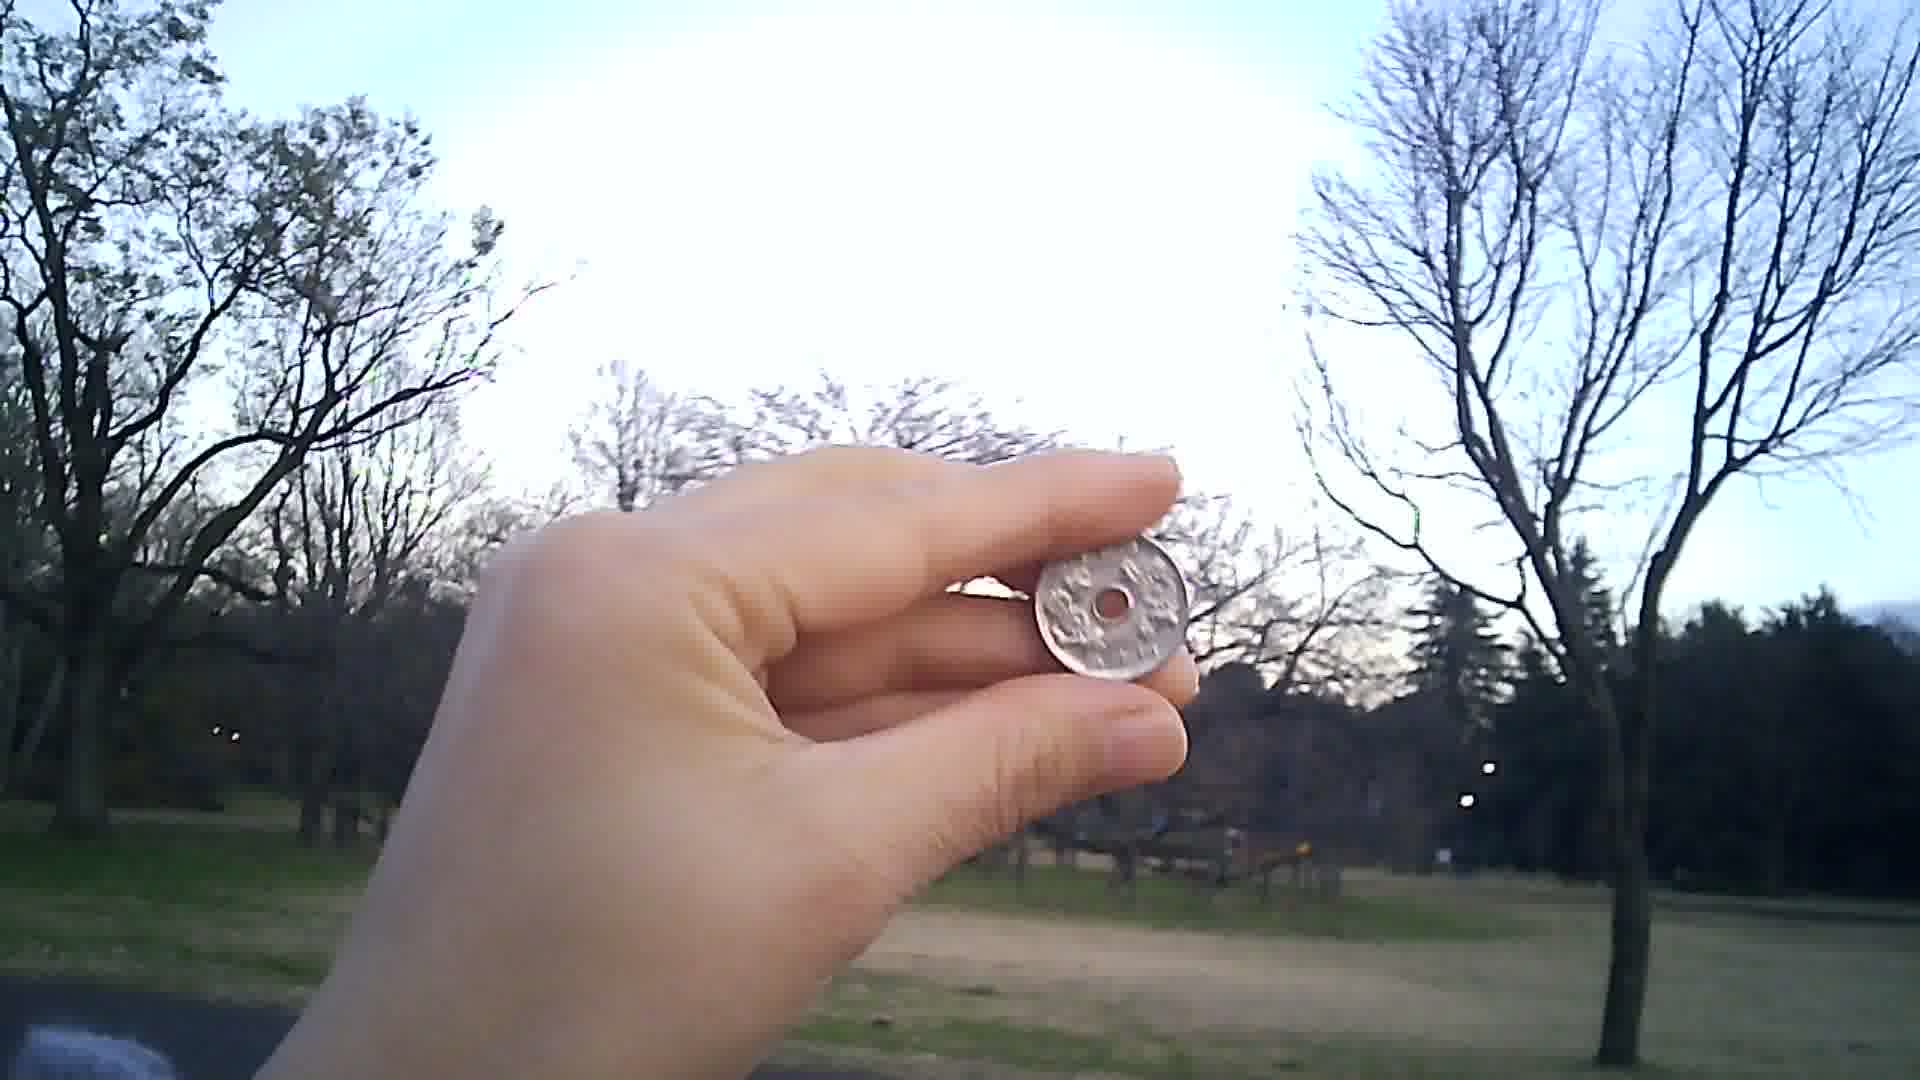50 Yen: (1033, 513, 1185, 688)
